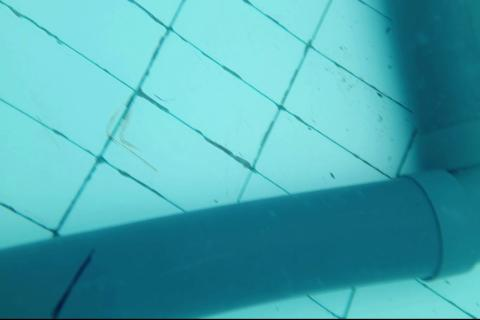keretakan: (52, 248, 96, 320)
